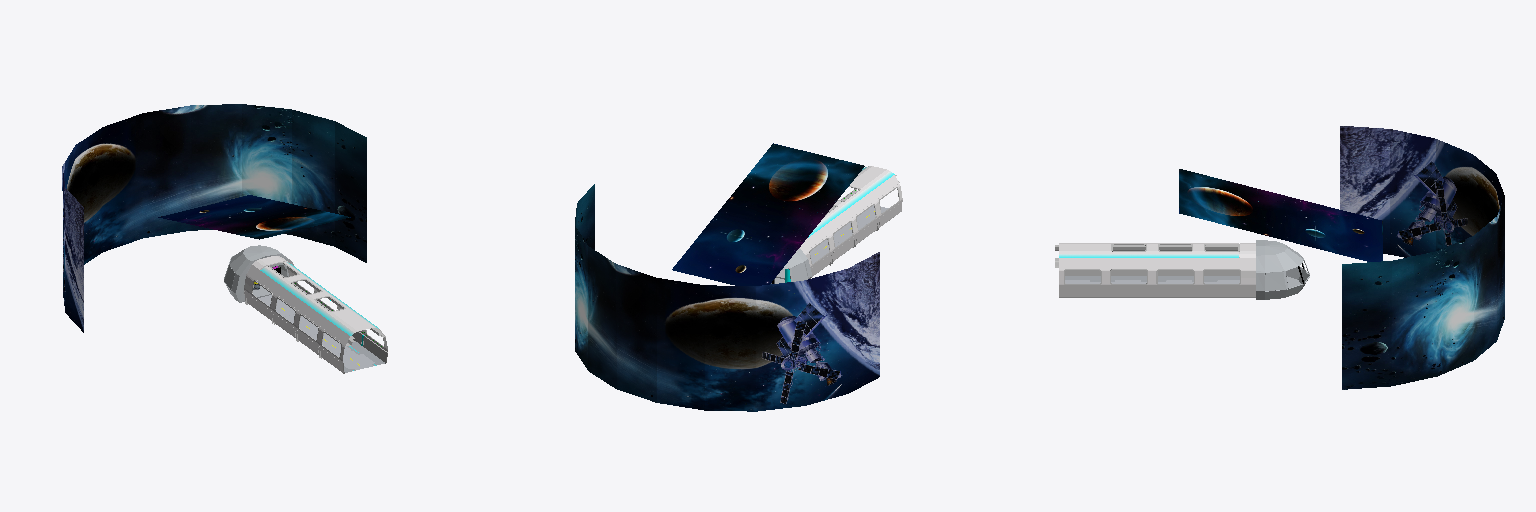
3 renders of one model, left to right at view 1: azimuth 30°, elevation 25°; view 2: azimuth 150°, elevation 25°; view 3: azimuth 270°, elevation 25°, orthographic.
Visible parts, largest first — view 1: group1 pCylinder7, group1 Sphere001, group1 pPlane34, group1 Object001; view 2: group1 pCylinder7, group1 pPlane34, group1 Sphere001, group1 Object001; view 3: group1 pCylinder7, group1 pPlane34, group1 Sphere001, group1 Object001, group1 pPlane1 pPlane21, group1 Loft003.
Boxes of the visible parts, box(x1,y1,x2,y2) form: group1 pCylinder7: box(62, 104, 366, 332); group1 Sphere001: box(244, 256, 387, 372); group1 pPlane34: box(158, 195, 350, 239); group1 Object001: box(224, 245, 293, 302); group1 pCylinder7: box(575, 184, 879, 411); group1 pPlane34: box(672, 143, 864, 285); group1 Sphere001: box(777, 166, 902, 277); group1 Object001: box(772, 248, 811, 283); group1 pCylinder7: box(1340, 126, 1504, 389); group1 pPlane34: box(1179, 169, 1382, 261); group1 Sphere001: box(1059, 243, 1255, 296); group1 Object001: box(1256, 240, 1309, 299); group1 pPlane1 pPlane21: box(1059, 270, 1255, 297); group1 Loft003: box(1055, 245, 1237, 250).
Size of the model in its own units: 71.89 by 31.28 by 98.43.
Materials: 18 (9 with a texture image).